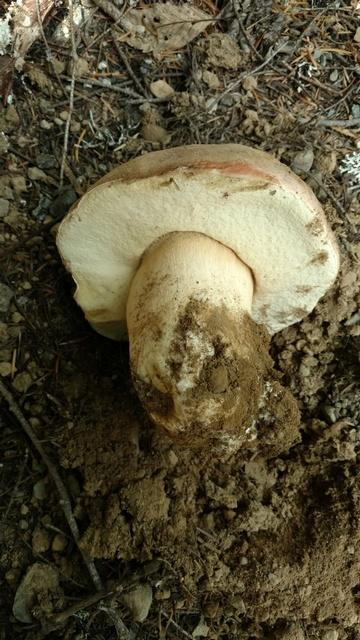Edible Mushroom: (54, 141, 341, 458)
